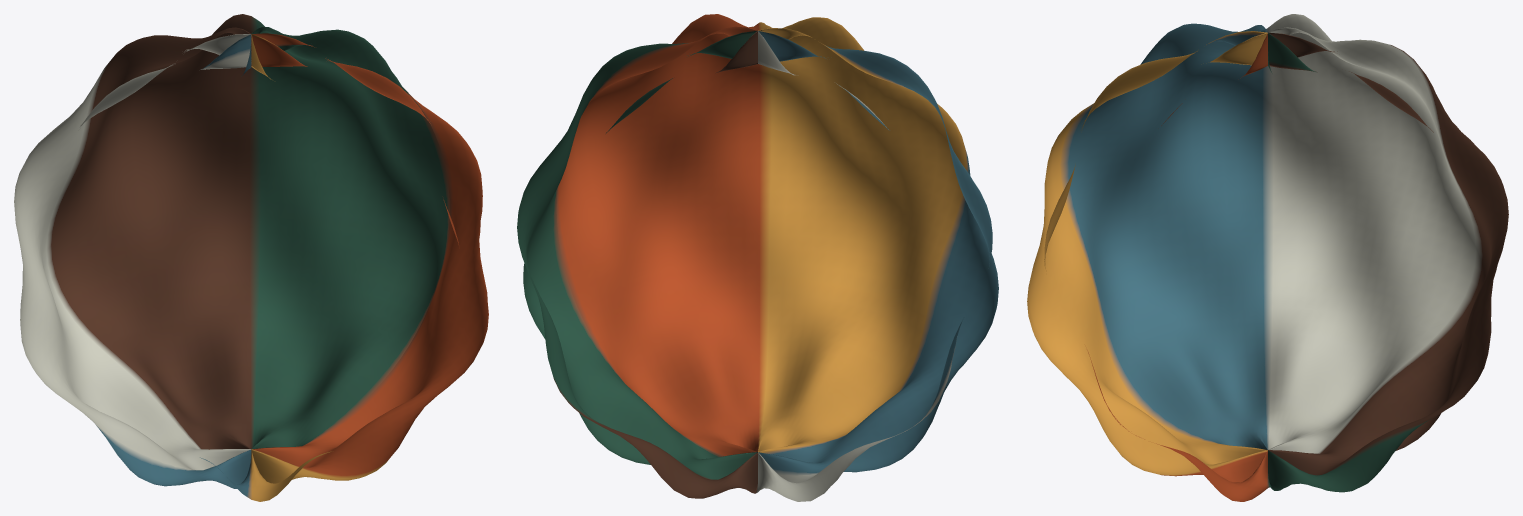
The model's file is sample-crest.glb.
3 views of the same model, side by side, from view 1: azimuth 30°, elevation 25°; view 2: azimuth 150°, elevation 25°; view 3: azimuth 270°, elevation 25° (orthographic).
Parts seen in each view (by area): view 1: crest; view 2: crest; view 3: crest.
Boxes of the visible parts, x1,y1,x2,y2 form: crest: [14, 14, 488, 501]; crest: [517, 14, 998, 501]; crest: [1027, 14, 1508, 501].
Size of the model in its own units: 2.05 by 2.16 by 2.09.
1 material, 1 textured.
